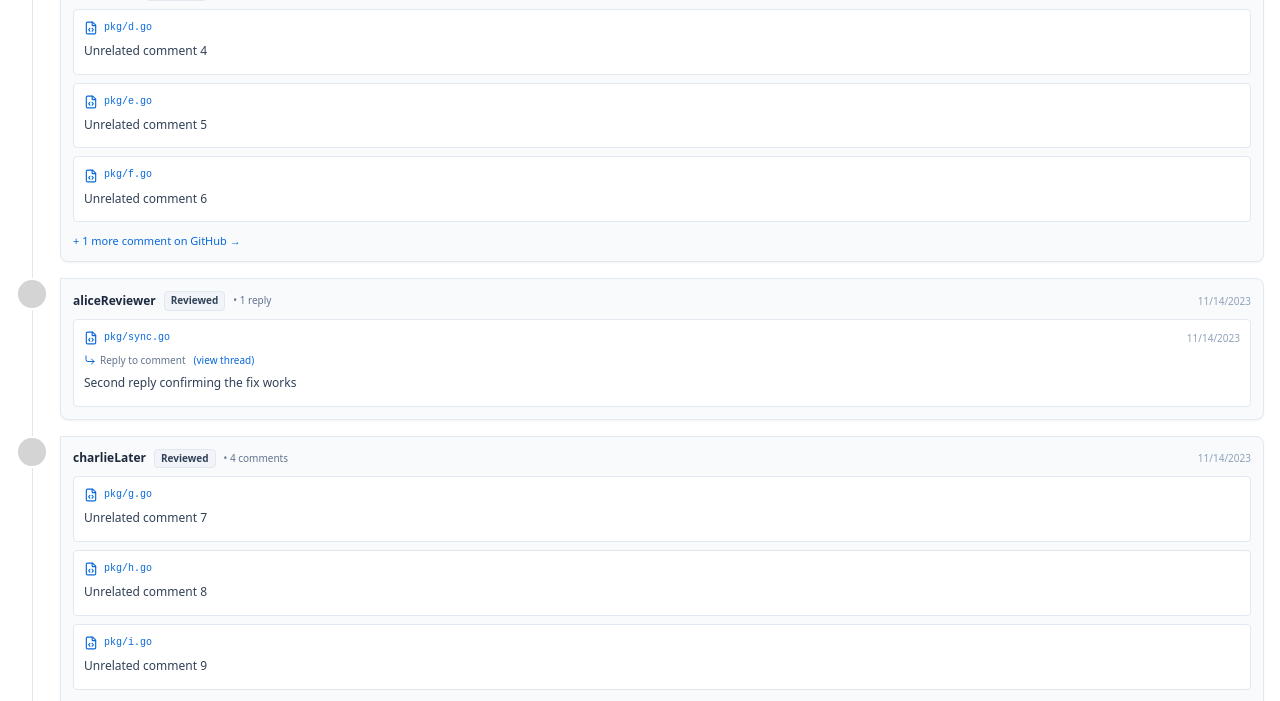
it: DetailsPane Component › Review Comment Thread Expansion and Timestamp Links › renders view thread as an interactive button instead of an external link and toggles thread expansion and collapse
(page scrolled)
Check: the text "Root thread question about mutex locking" is not shown
Check: the text "First reply explaining lock acquisition order" is not shown
// Click 'view thread' to expand in-place
Click the button "(view thread)". click: click(224, 360)
box: [194, 352, 254, 368]
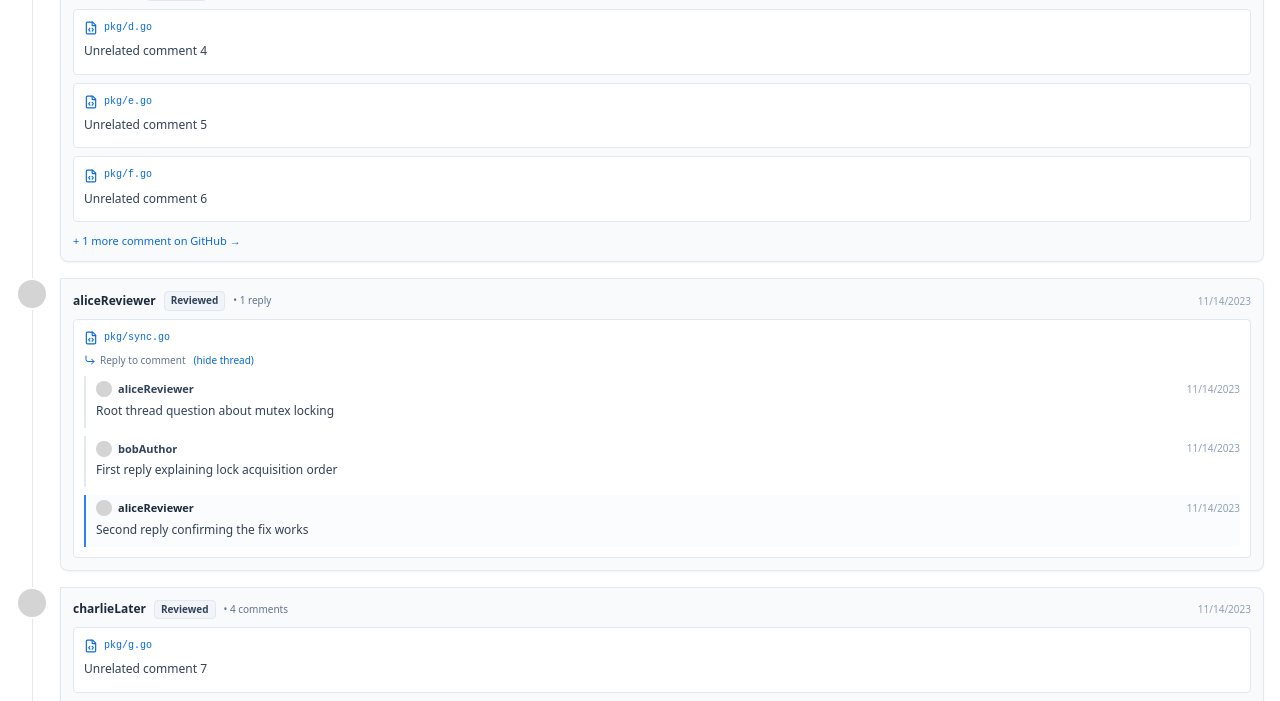
Check: the element with test id "expanded-review-thread" is shown, box [84, 376, 1240, 546]
Check: the number of elements with test id "review-thread-comment" is 3, box [84, 376, 1240, 428]; [84, 436, 1240, 487]; [84, 495, 1240, 547]
Check: the element with test id "review-thread-comment" shows "aliceReviewer", box [118, 381, 194, 396]
Click the button "(hide thread)". click: click(224, 360)
box: [194, 352, 254, 368]
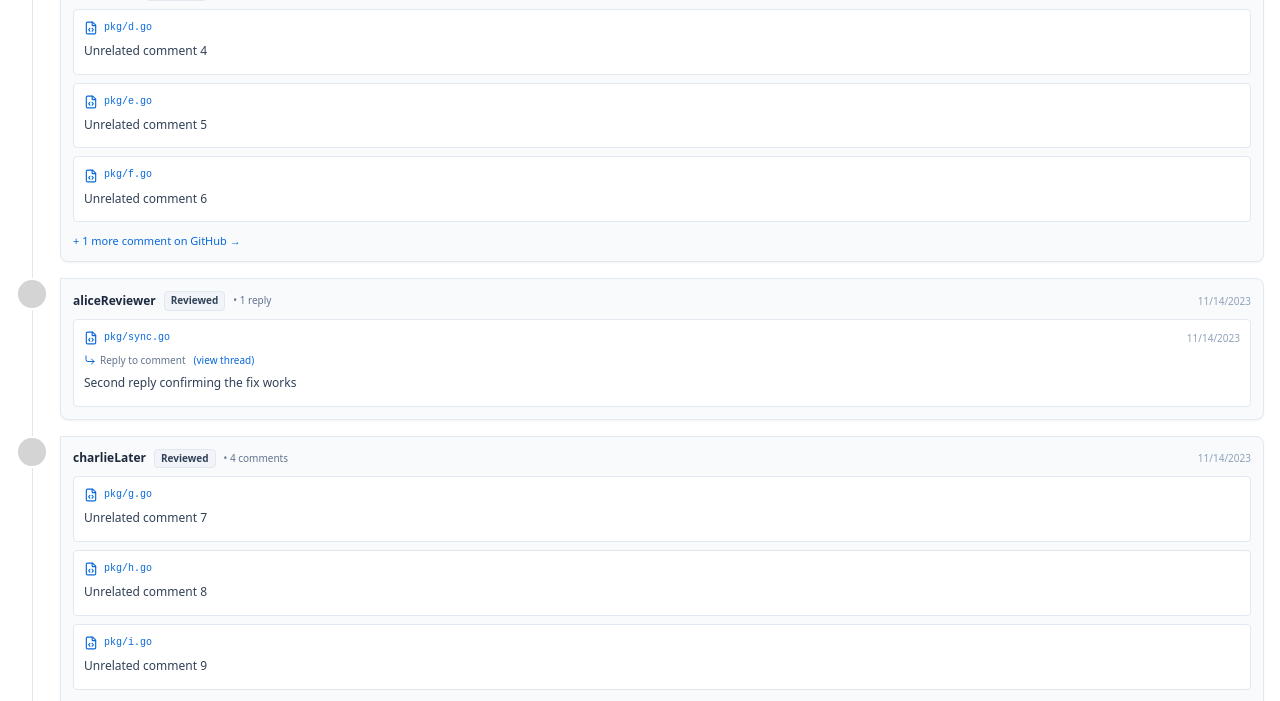
Check: the text "Second reply confirming the fix works" is shown, box [84, 374, 296, 391]
Check: the element with test id "expanded-review-thread" is gone
Check: the text "Root thread question about mutex locking" is gone
